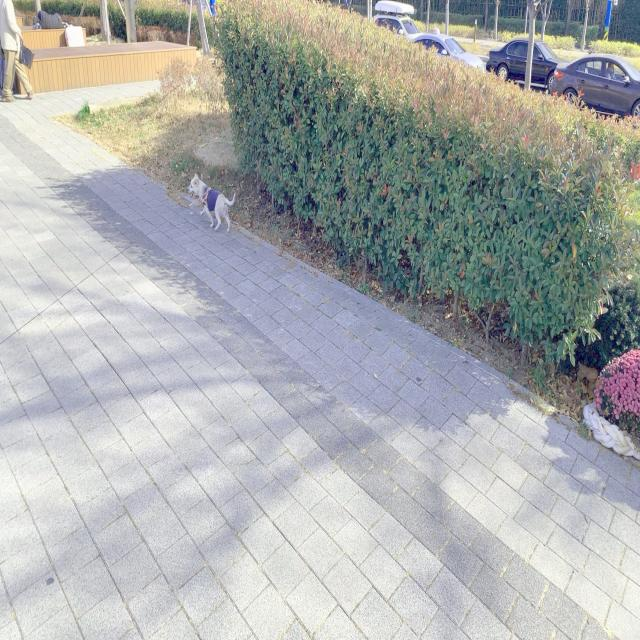Dog: (186, 171, 238, 234)
